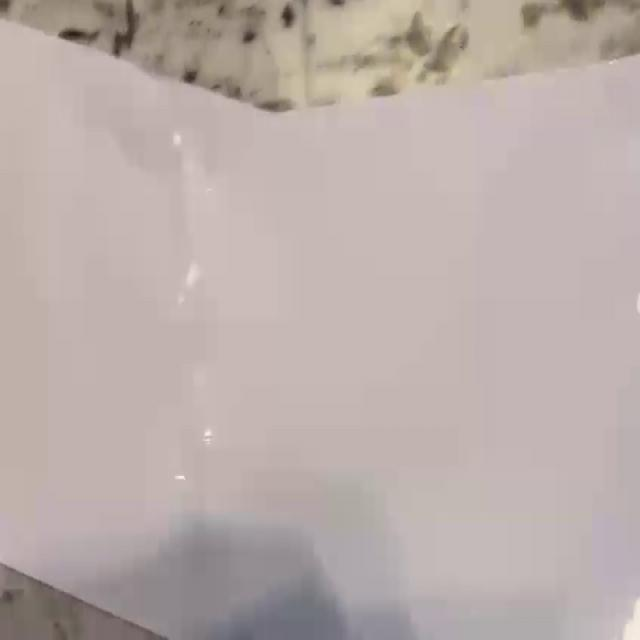road: (0, 19, 640, 639)
